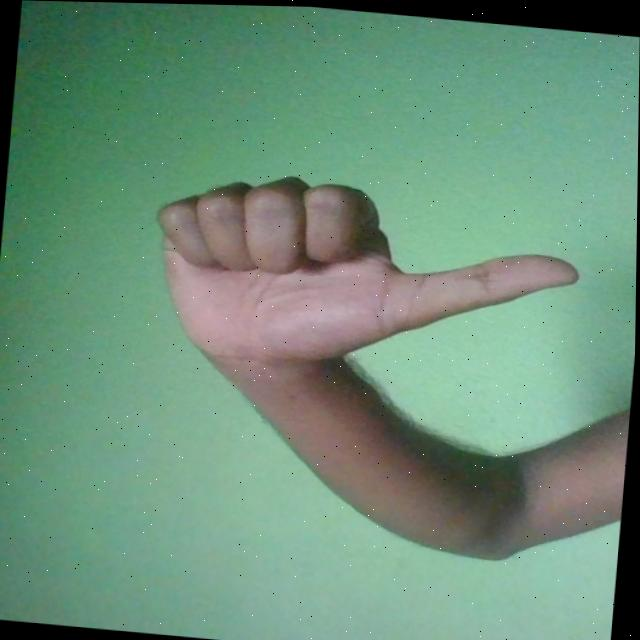Dislike: (146, 164, 587, 393)
